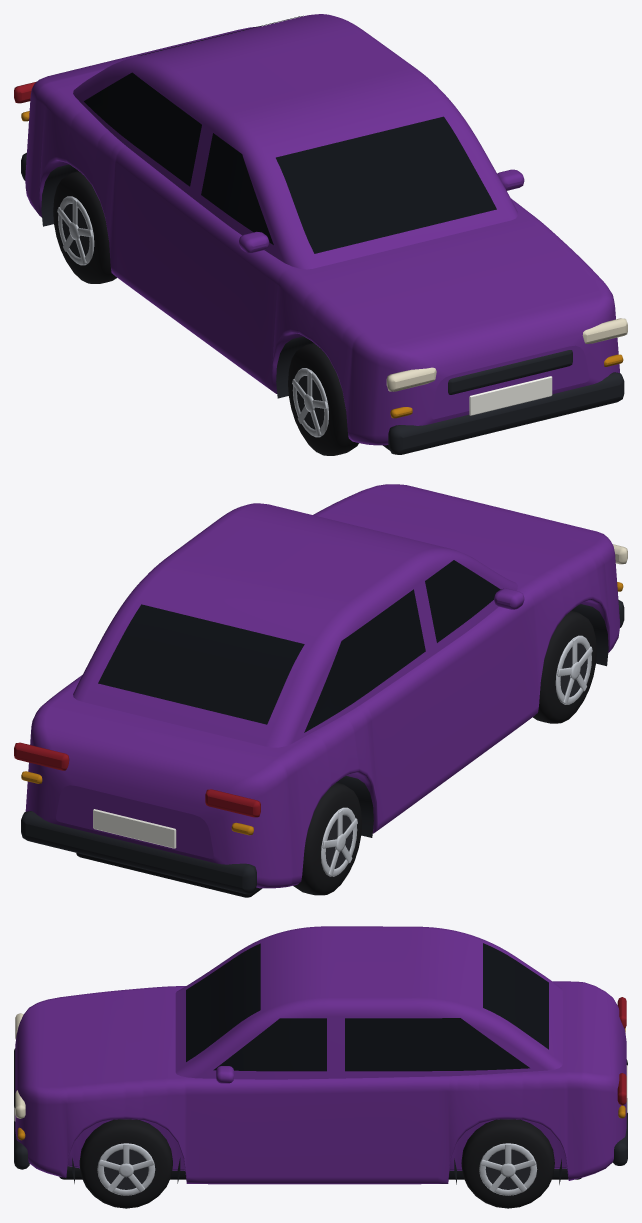
File: car-purple.glb
3 renders of one model, top to bottom at view 1: azimuth 30°, elevation 25°; view 2: azimuth 150°, elevation 25°; view 3: azimuth 270°, elevation 25°, orthographic. The views are drawn at different scales.
Parts seen in each view (by area): view 1: body, cabin, glass, bumper_f, wheel_fr_tyre, wheel_rr_tyre, wheelhouses, plate_f, wheel_rr_rim, wheel_fr_rim, light_head_r, light_head_l (+2 smaller); view 2: body, cabin, glass, bumper_r, wheel_rr_tyre, wheel_fr_tyre, wheelhouses, plate_r, wheel_fr_rim, wheel_rr_rim, light_tail_r, light_tail_l (+3 smaller); view 3: body, cabin, glass, wheel_rl_tyre, wheel_fl_tyre, wheel_fl_rim, wheel_rl_rim, wheel_fl_disc, wheel_rl_disc, underbody, bumper_f, bumper_r.
Boxes of the visible parts, left/top/right/bottom form: body: left=25, top=26, right=619, bottom=445; cabin: left=73, top=14, right=517, bottom=269; glass: left=84, top=15, right=496, bottom=253; bumper_f: left=388, top=350, right=624, bottom=454; wheel_fr_tyre: left=288, top=343, right=358, bottom=455; wheel_rr_tyre: left=53, top=171, right=116, bottom=283; wheelhouses: left=41, top=164, right=313, bottom=398; plate_f: left=469, top=376, right=552, bottom=415; wheel_rr_rim: left=57, top=196, right=94, bottom=265; wheel_fr_rim: left=292, top=368, right=328, bottom=437; light_head_r: left=386, top=367, right=436, bottom=391; light_head_l: left=582, top=318, right=627, bottom=343; body: left=25, top=484, right=620, bottom=888; cabin: left=73, top=503, right=517, bottom=747; glass: left=98, top=560, right=500, bottom=732; bumper_r: left=21, top=811, right=256, bottom=893; wheel_rr_tyre: left=293, top=782, right=361, bottom=895; wheel_fr_tyre: left=533, top=610, right=596, bottom=723; wheelhouses: left=336, top=604, right=608, bottom=837; plate_r: left=93, top=809, right=176, bottom=848; wheel_fr_rim: left=555, top=635, right=592, bottom=704; wheel_rr_rim: left=321, top=807, right=357, bottom=876; light_tail_r: left=205, top=789, right=260, bottom=817; light_tail_l: left=14, top=742, right=69, bottom=770; body: left=15, top=981, right=626, bottom=1184; cabin: left=175, top=926, right=562, bottom=1079; glass: left=186, top=943, right=548, bottom=1071; wheel_rl_tyre: left=461, top=1119, right=554, bottom=1208; wheel_fl_tyre: left=79, top=1119, right=172, bottom=1208; wheel_fl_rim: left=97, top=1143, right=155, bottom=1195; wheel_rl_rim: left=479, top=1143, right=537, bottom=1195; wheel_fl_disc: left=104, top=1149, right=148, bottom=1189; wheel_rl_disc: left=485, top=1149, right=530, bottom=1189; underbody: left=59, top=1166, right=581, bottom=1179; bumper_f: left=14, top=1048, right=29, bottom=1169; bumper_r: left=613, top=1059, right=627, bottom=1165.
Size of the model in its own units: 1.75 by 1.45 by 4.1.
